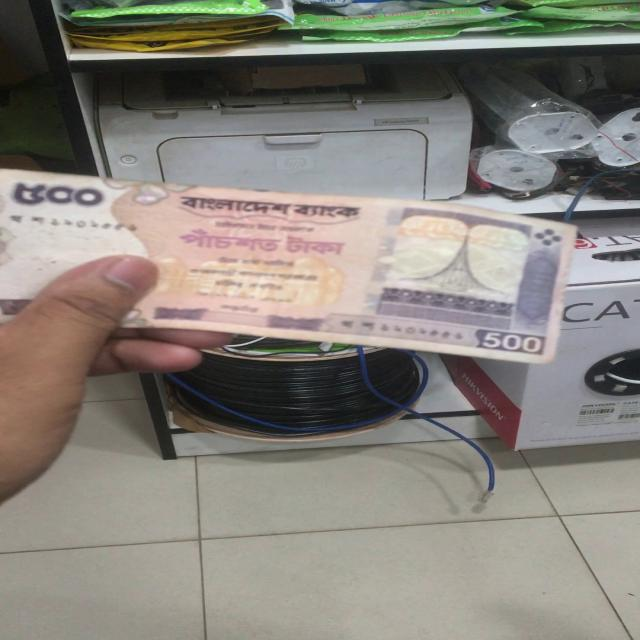Taka: (7, 169, 554, 358)
